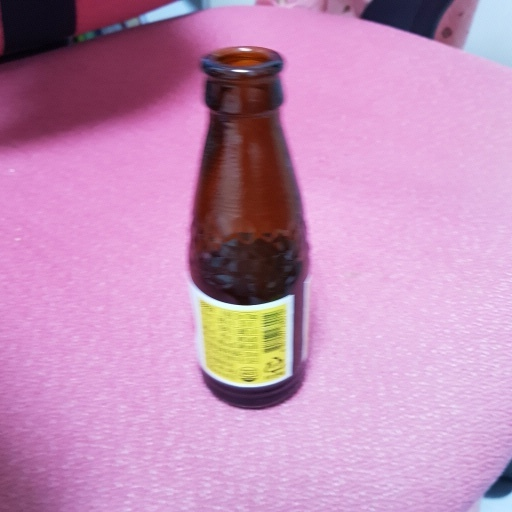Glass_3: (175, 46, 322, 411)
